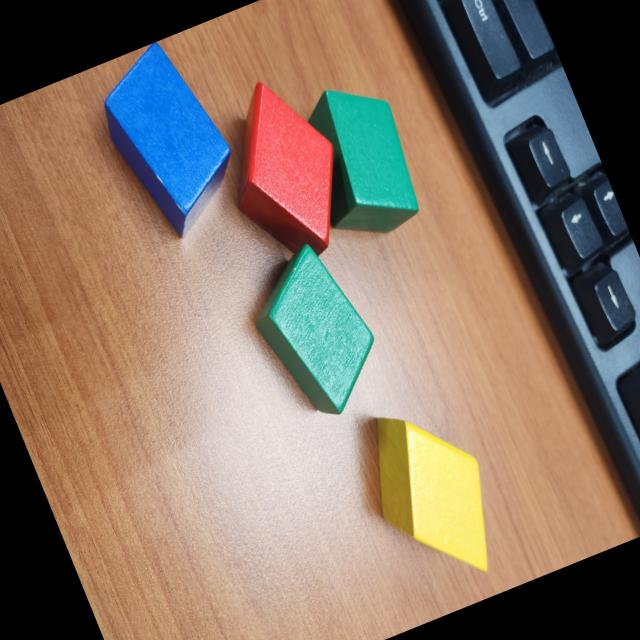blue: (82, 30, 256, 250)
green: (232, 229, 399, 432), (282, 65, 434, 252)
red: (196, 63, 372, 275)
yellow: (345, 386, 518, 602)
